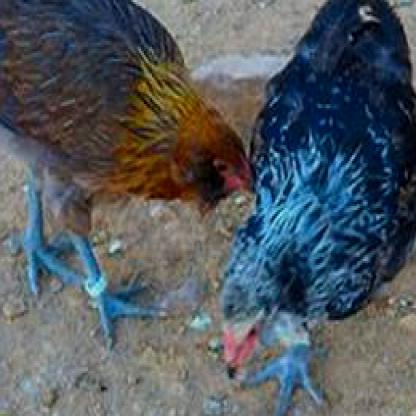chicken: (2, 0, 256, 355), (219, 0, 415, 415)
